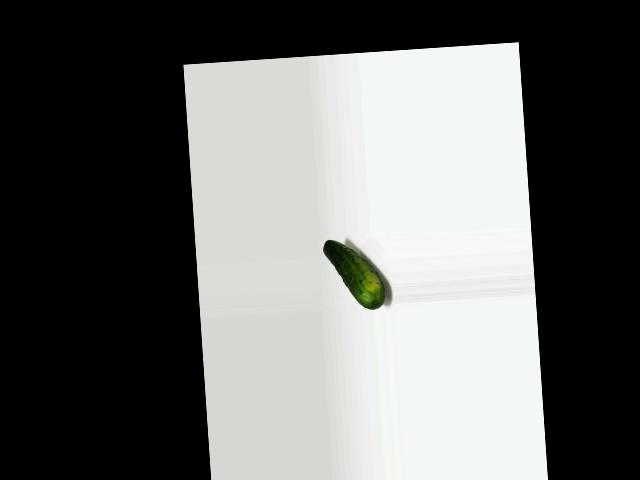cucumber: (322, 236, 385, 312)
